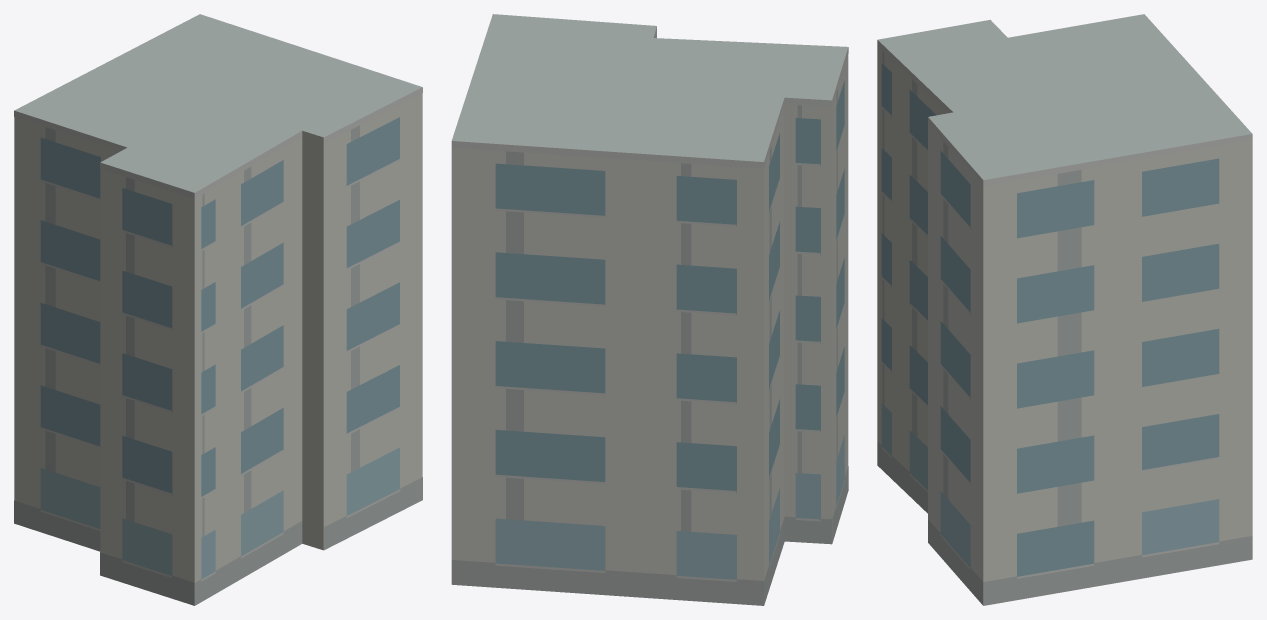
Rendered from survey-upis-32857953.glb.
3 views of the same model, side by side, from view 1: azimuth 30°, elevation 25°; view 2: azimuth 150°, elevation 25°; view 3: azimuth 270°, elevation 25° (orthographic). The views are drawn at different scales.
Parts seen in each view (by area): view 1: survey-upis-32857953.tmp; view 2: survey-upis-32857953.tmp; view 3: survey-upis-32857953.tmp.
Part boxes in pixels (<box>): survey-upis-32857953.tmp: <box>14,14,422,605</box>; survey-upis-32857953.tmp: <box>451,14,848,605</box>; survey-upis-32857953.tmp: <box>877,14,1252,605</box>.
Size of the model in its own units: 13.38 by 15.97 by 12.76.
